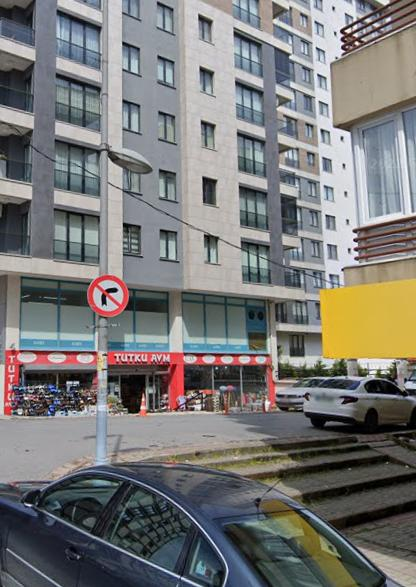rightturnsareforbidden: (89, 275, 130, 317)
